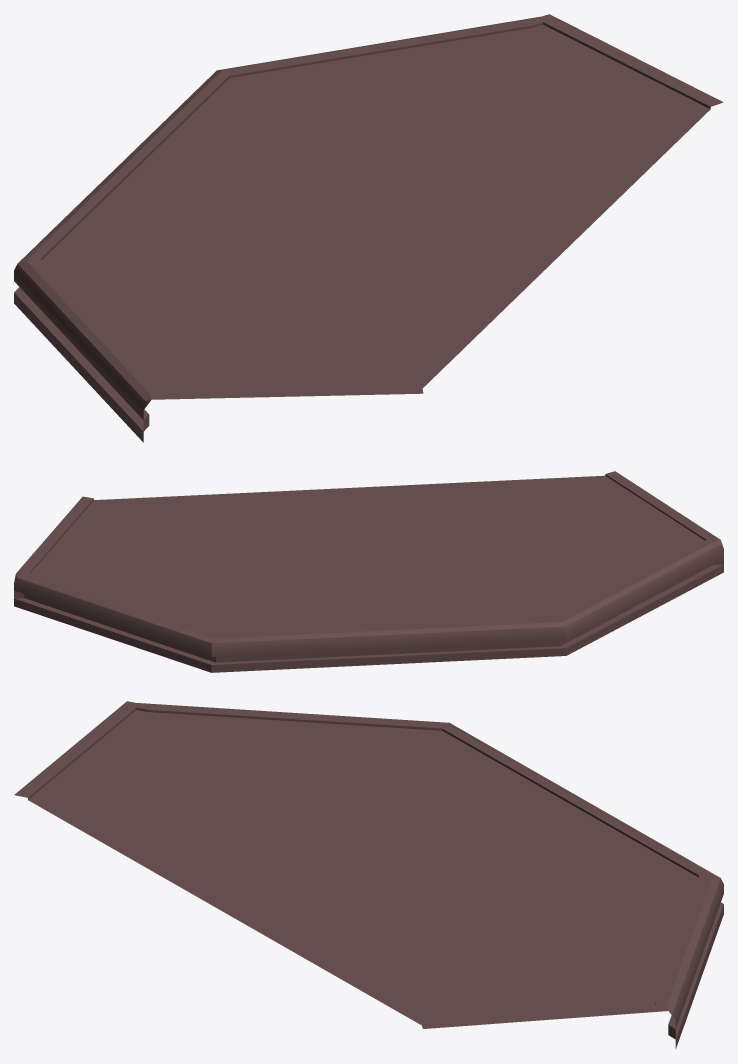
File: Lip.fbx
3 renders of one model, top to bottom at view 1: azimuth 30°, elevation 25°; view 2: azimuth 150°, elevation 25°; view 3: azimuth 270°, elevation 25°, orthographic. The views are drawn at different scales.
Parts seen in each view (by area): view 1: Lip; view 2: Lip; view 3: Lip.
Part boxes in pixels (x1=…): Lip: x1=14, y1=14, x2=723, y2=442; Lip: x1=14, y1=471, x2=723, y2=672; Lip: x1=14, y1=701, x2=723, y2=1048.
Size of the model in its own units: 0.0838 by 0.00464 by 0.076.
